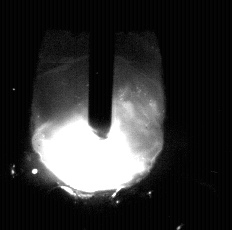arame: (89, 0, 113, 139)
poca: (31, 0, 164, 230)
